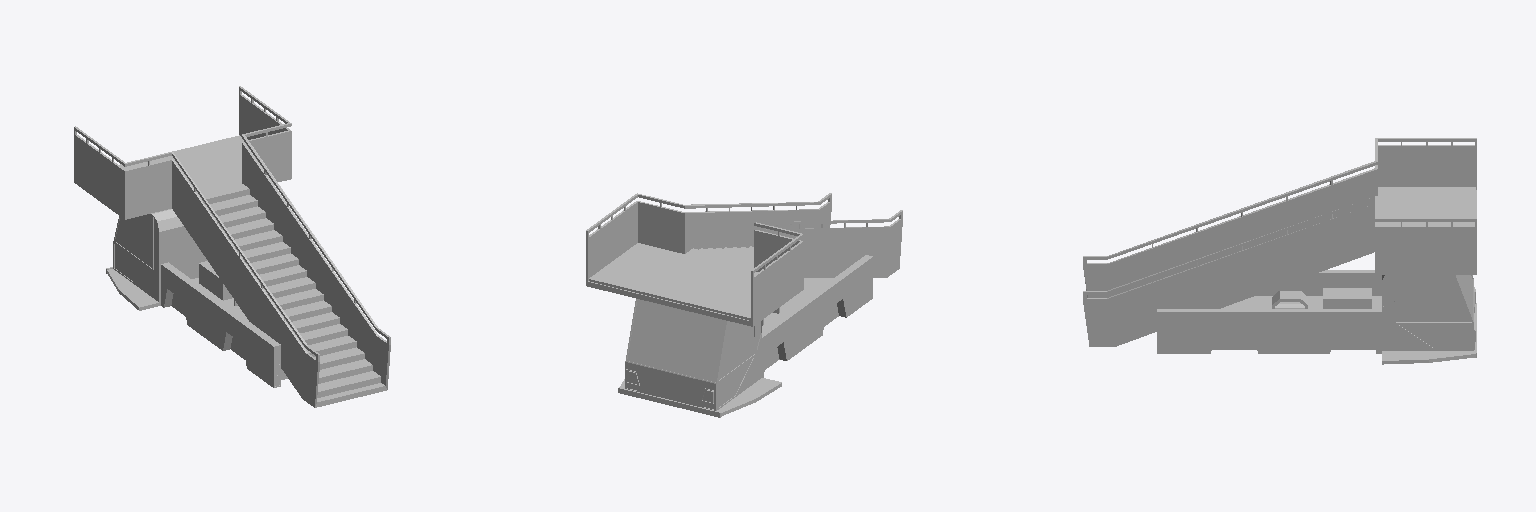
The model's file is boarding_ladder.obj.
3 renders of one model, left to right at view 1: azimuth 30°, elevation 25°; view 2: azimuth 150°, elevation 25°; view 3: azimuth 270°, elevation 25°, orthographic.
Parts seen in each view (by area): view 1: boarding_ladder_01; view 2: boarding_ladder_01; view 3: boarding_ladder_01.
Part boxes in pixels (x1,y1,x2,y2): boarding_ladder_01: (74,86,390,407); boarding_ladder_01: (586,193,902,417); boarding_ladder_01: (1083,138,1476,364).
Bounding box in the file's own units: 0.4189 × 0.3706 × 0.8576.